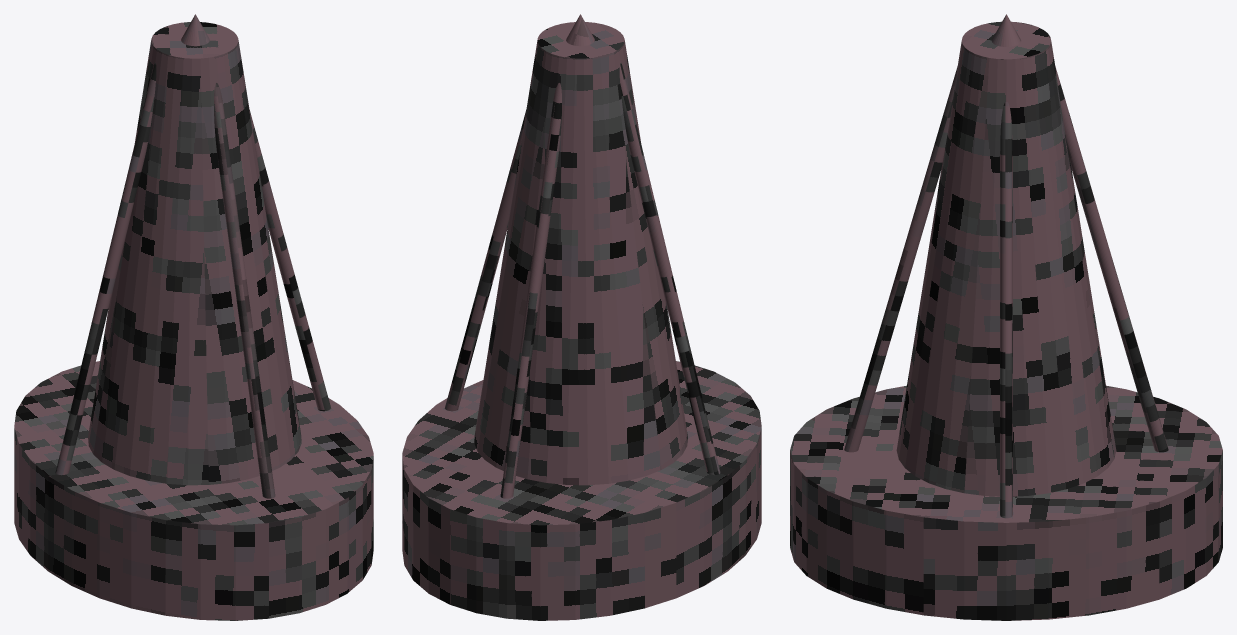
The model's file is buoey.glb.
3 renders of one model, left to right at view 1: azimuth 30°, elevation 25°; view 2: azimuth 150°, elevation 25°; view 3: azimuth 270°, elevation 25°, orthographic. The views are drawn at different scales.
Visible parts, largest first — view 1: Cylinder.002; view 2: Cylinder.002; view 3: Cylinder.002.
Part boxes in pixels (x1,y1,x2,y2): Cylinder.002: (14,14,373,620); Cylinder.002: (402,14,761,620); Cylinder.002: (790,14,1222,620).
Bounding box in the file's own units: 3.19 × 5.45 × 4.
Materials: 1 (1 with a texture image).
